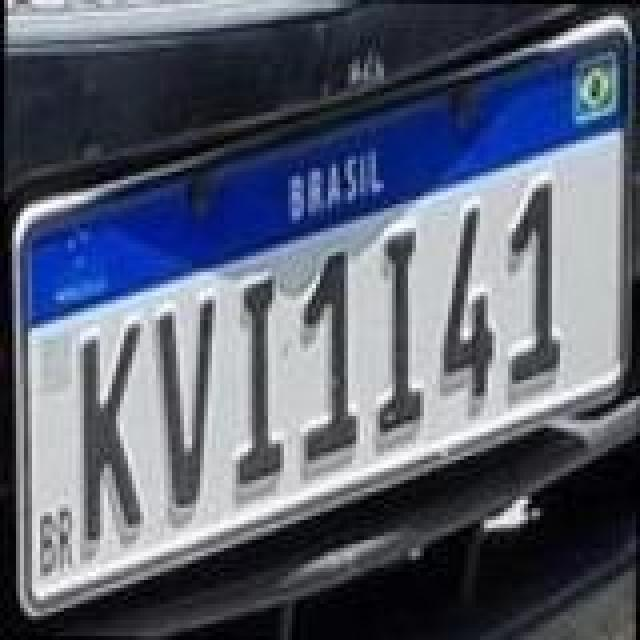1: (296, 250, 360, 462), (506, 180, 566, 388)
4: (440, 202, 496, 398)
I: (236, 276, 292, 492), (374, 222, 426, 434)
K: (76, 320, 148, 544)
V: (152, 292, 216, 508)
